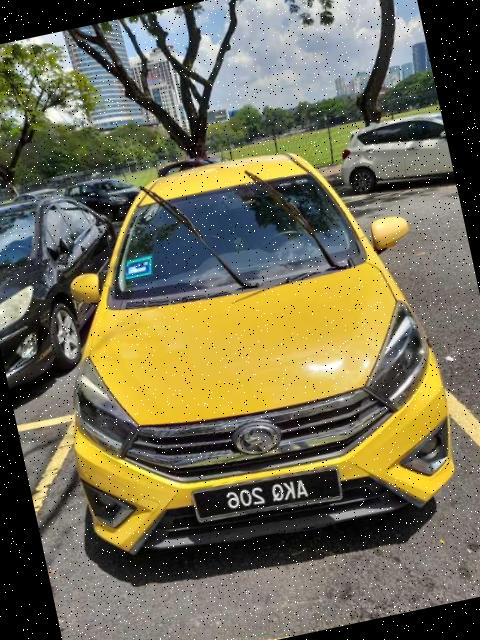License_Plate: (191, 460, 346, 530)
car: (20, 120, 470, 578)
